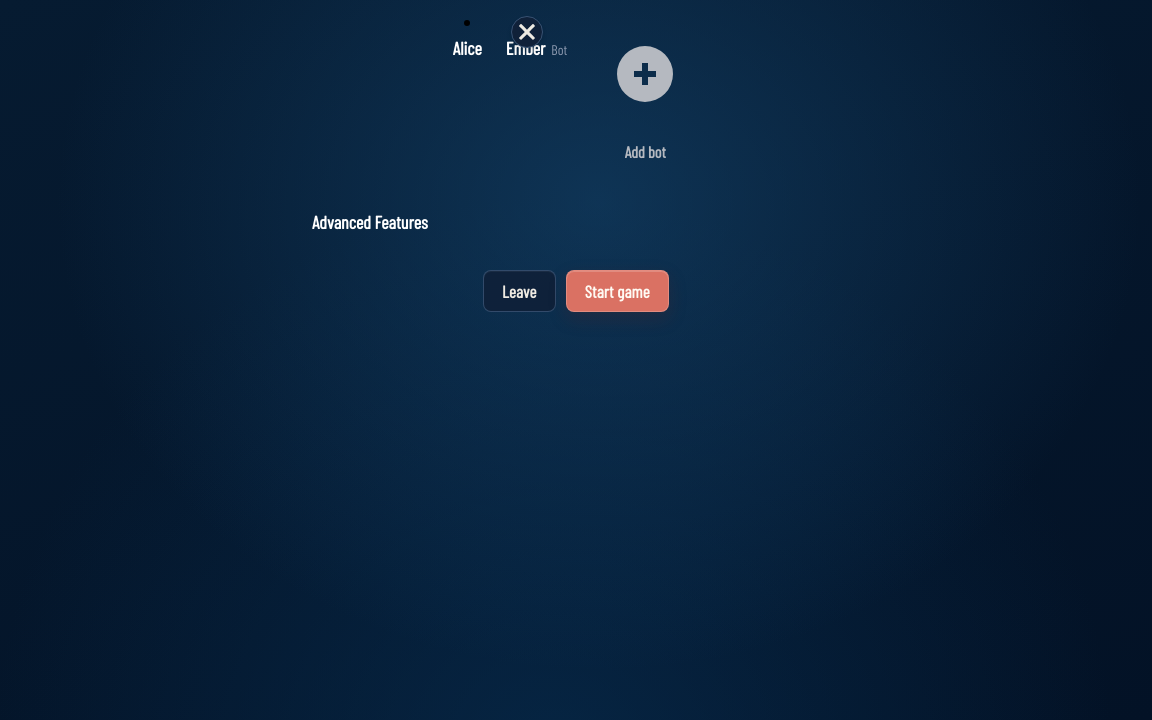
Test: HanabiLobby bot controls › shows add and removal errors inline and unlocks controls
The image size is (1152, 720).
Click the button "Add bot" at x=645, y=92, box [591,20,699,164]
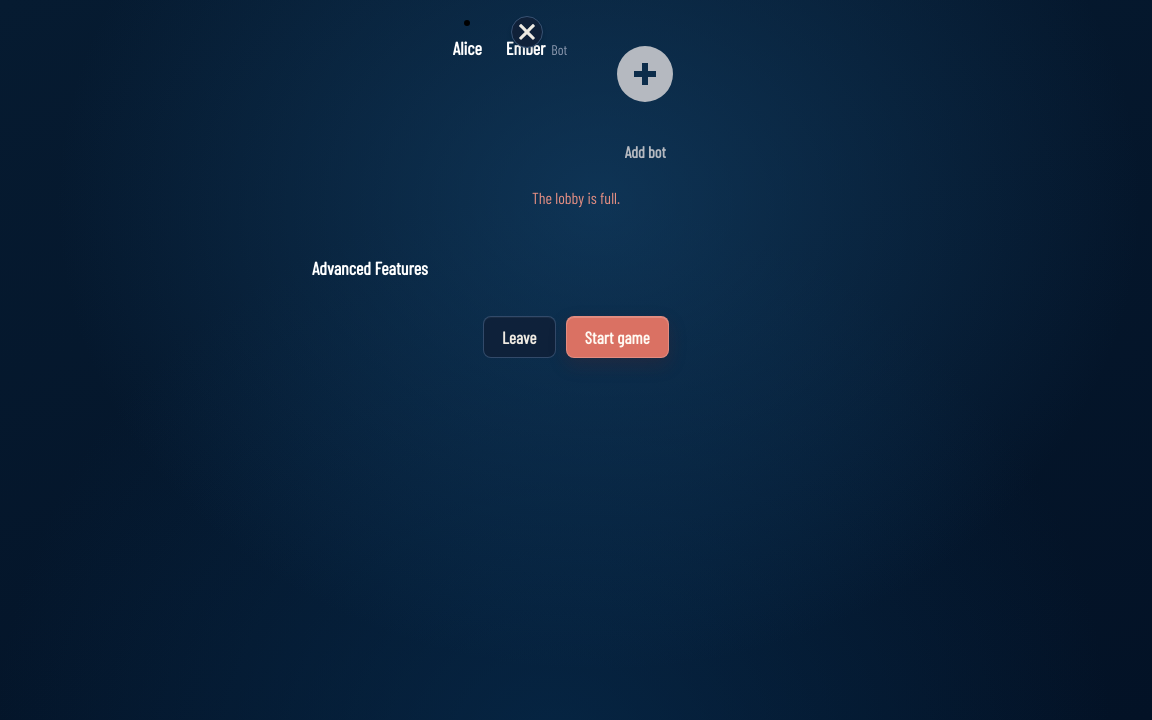
Check: the message "The lobby is full." is shown, box [532,188,620,207]
Click the button named "Remove Ember" at x=528, y=32, box [512,16,544,48]
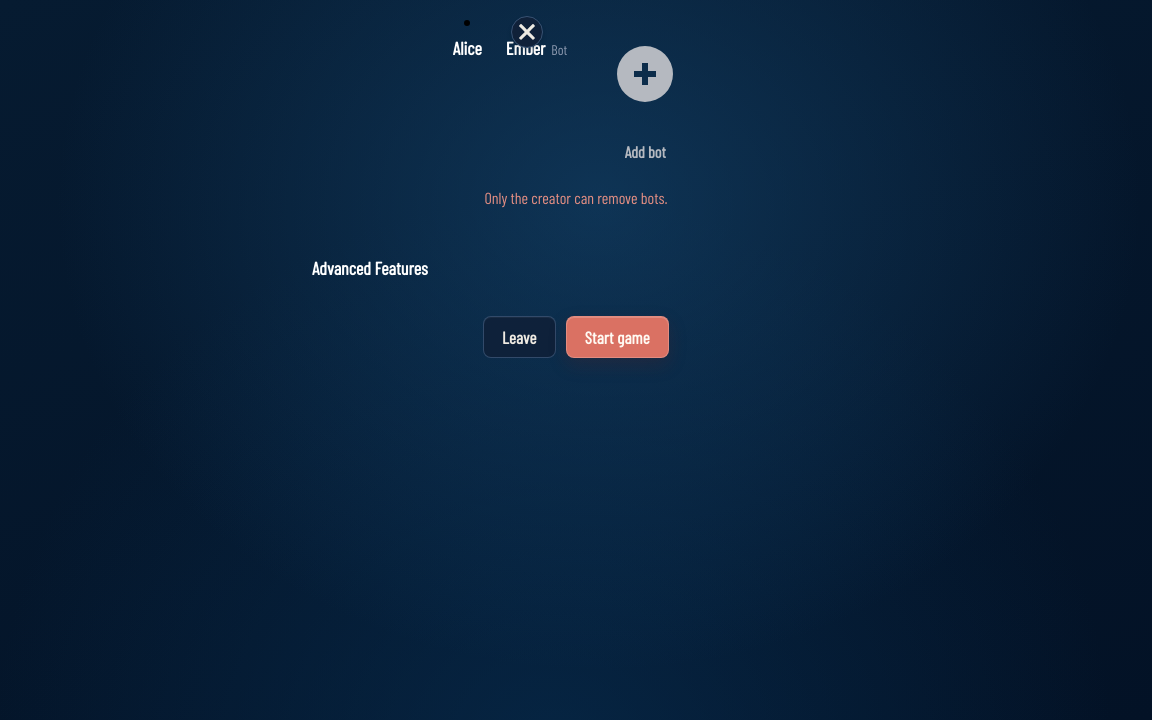
Check: the message "Only the creator can remove bots." is shown, box [484,188,668,207]
